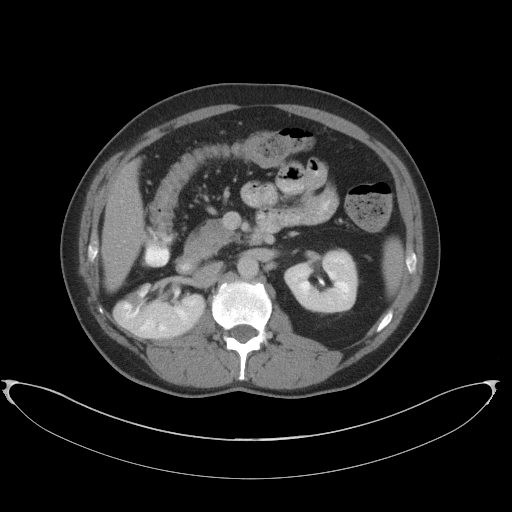Lesion: (122, 288, 143, 315)
